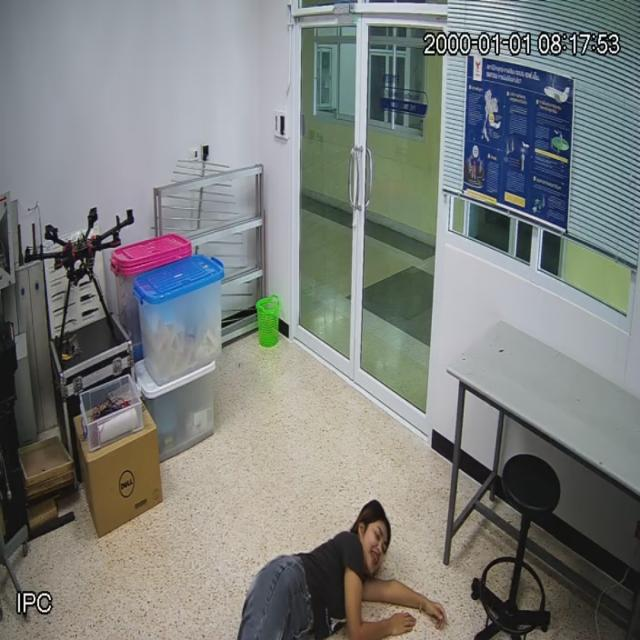fall: (227, 495, 421, 640)
